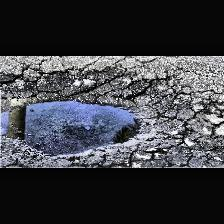pothole: (0, 75, 163, 157)
